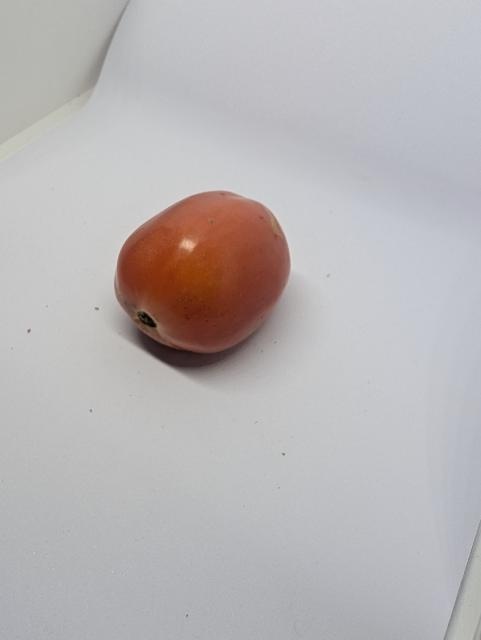red: (113, 187, 297, 358)
